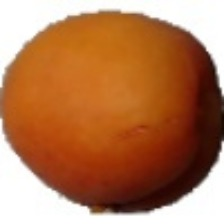apricot: (29, 24, 176, 165)
